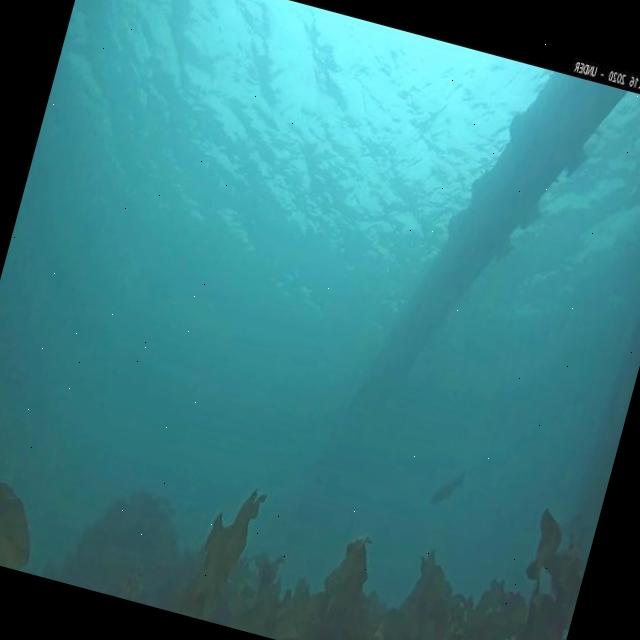fish: (429, 462, 466, 512)
